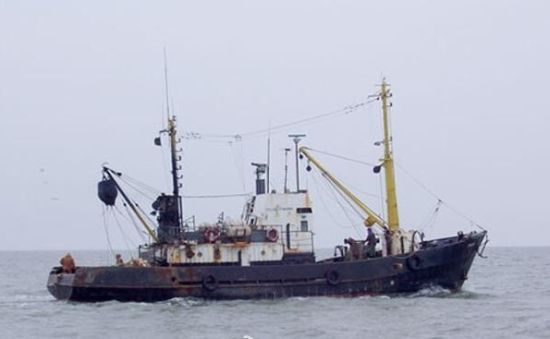otherboat: (47, 126, 484, 301)
